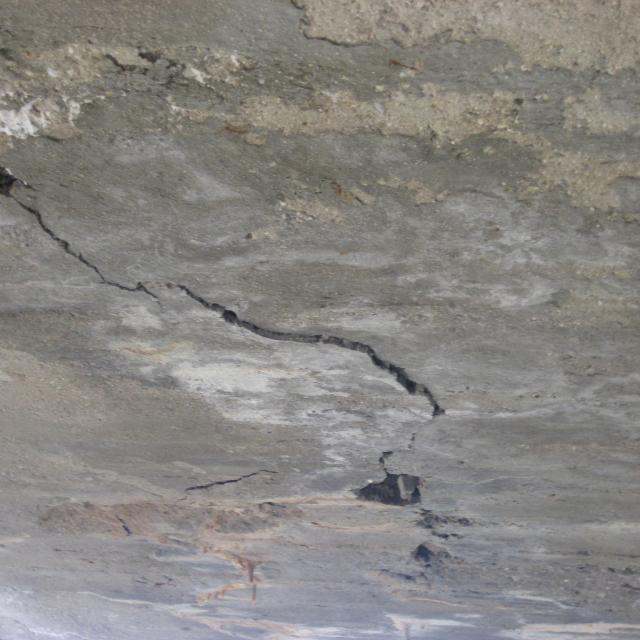diagonal crack: (0, 156, 473, 588)
horizontal crack: (178, 468, 280, 504)
